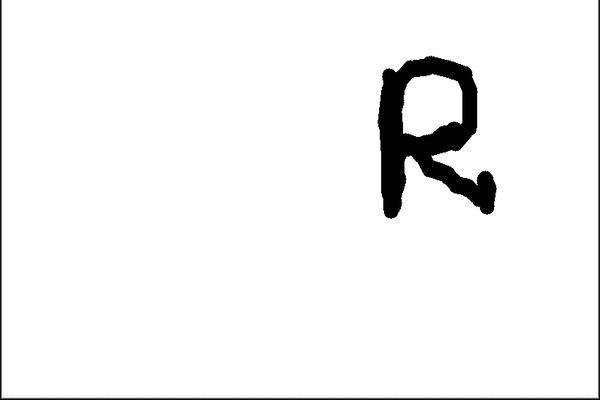R: (371, 54, 503, 224)
